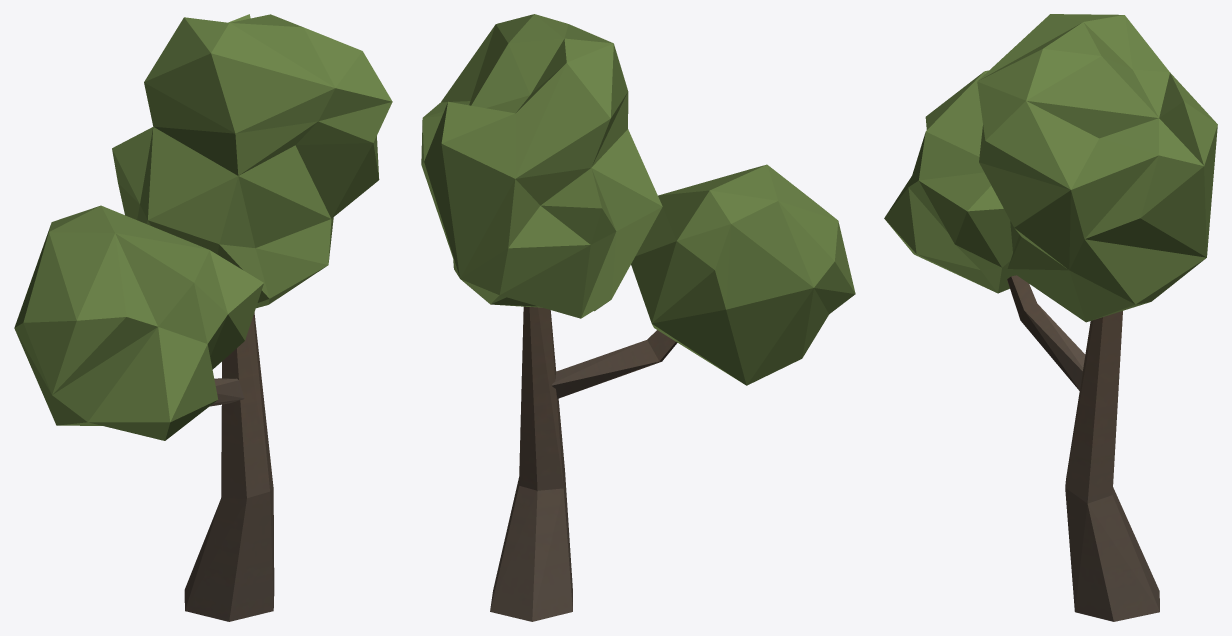
Rendered from SM_Tree_1.FBX.
3 renders of one model, left to right at view 1: azimuth 30°, elevation 25°; view 2: azimuth 150°, elevation 25°; view 3: azimuth 270°, elevation 25°, orthographic. The views are drawn at different scales.
Visible parts, largest first — view 1: SM_Tree_1; view 2: SM_Tree_1; view 3: SM_Tree_1.
Part boxes in pixels (<box>): SM_Tree_1: <box>14,14,392,621</box>; SM_Tree_1: <box>421,14,855,621</box>; SM_Tree_1: <box>884,14,1217,621</box>.
Size of what is drawn, in the model's own units: 490 by 381 by 719.
